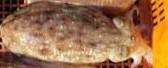Cephalopod: (0, 2, 154, 67)
